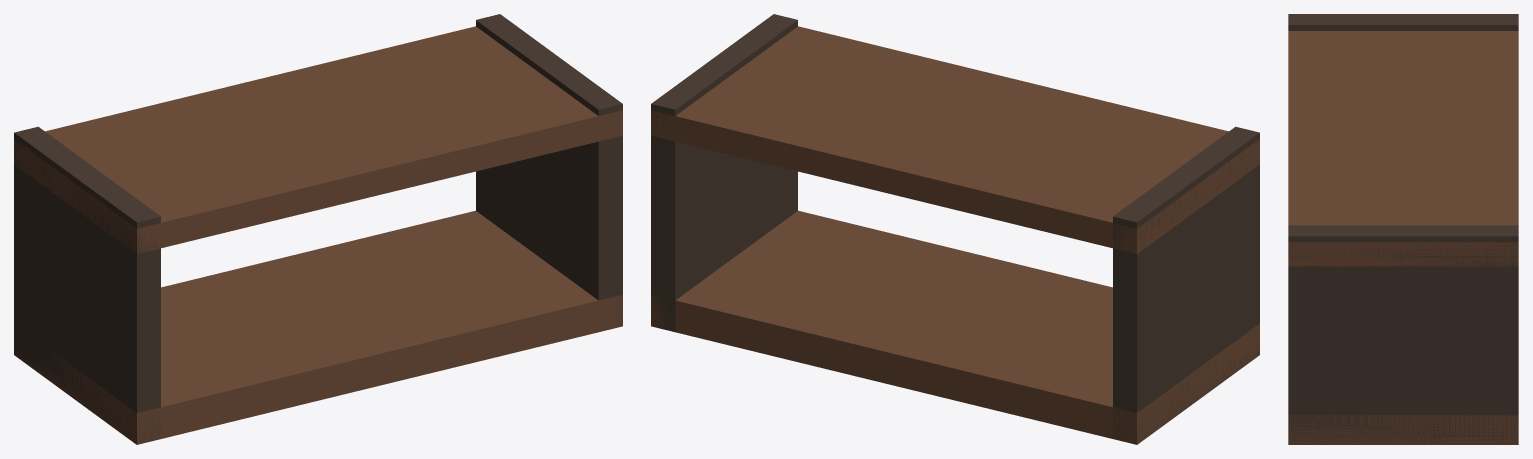
The model's file is pickup_shelf.fbx.
The picture shows the model from 3 angles, left to right: view 1: azimuth 30°, elevation 25°; view 2: azimuth 150°, elevation 25°; view 3: azimuth 270°, elevation 25°; orthographic projection. The views are drawn at different scales.
Parts seen in each view (by area): view 1: pickup_shelf; view 2: pickup_shelf; view 3: pickup_shelf.
Boxes of the visible parts, left/top/right/bottom form: pickup_shelf: left=14, top=14, right=622, bottom=444; pickup_shelf: left=651, top=14, right=1259, bottom=444; pickup_shelf: left=1288, top=14, right=1518, bottom=444.
Size of the model in its own units: 0.8 by 0.35 by 0.35.
